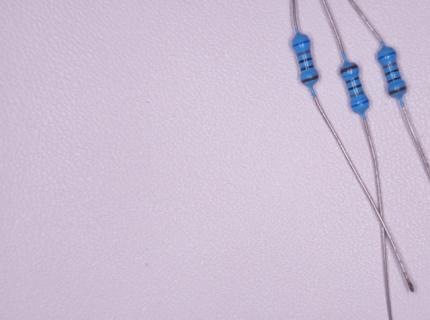Black band: (345, 76, 360, 84), (384, 69, 400, 76), (347, 84, 362, 91), (387, 76, 402, 83), (301, 65, 314, 71), (299, 58, 312, 64)
Blue band: (378, 51, 396, 61), (351, 100, 368, 108), (292, 40, 310, 47)
Brown band: (340, 64, 359, 74), (301, 75, 319, 84), (389, 86, 407, 95)
Grey band: (296, 49, 310, 57), (383, 62, 397, 70), (350, 91, 364, 98)
